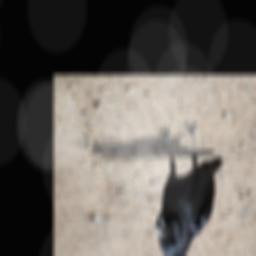Crow: (154, 123, 223, 256)
